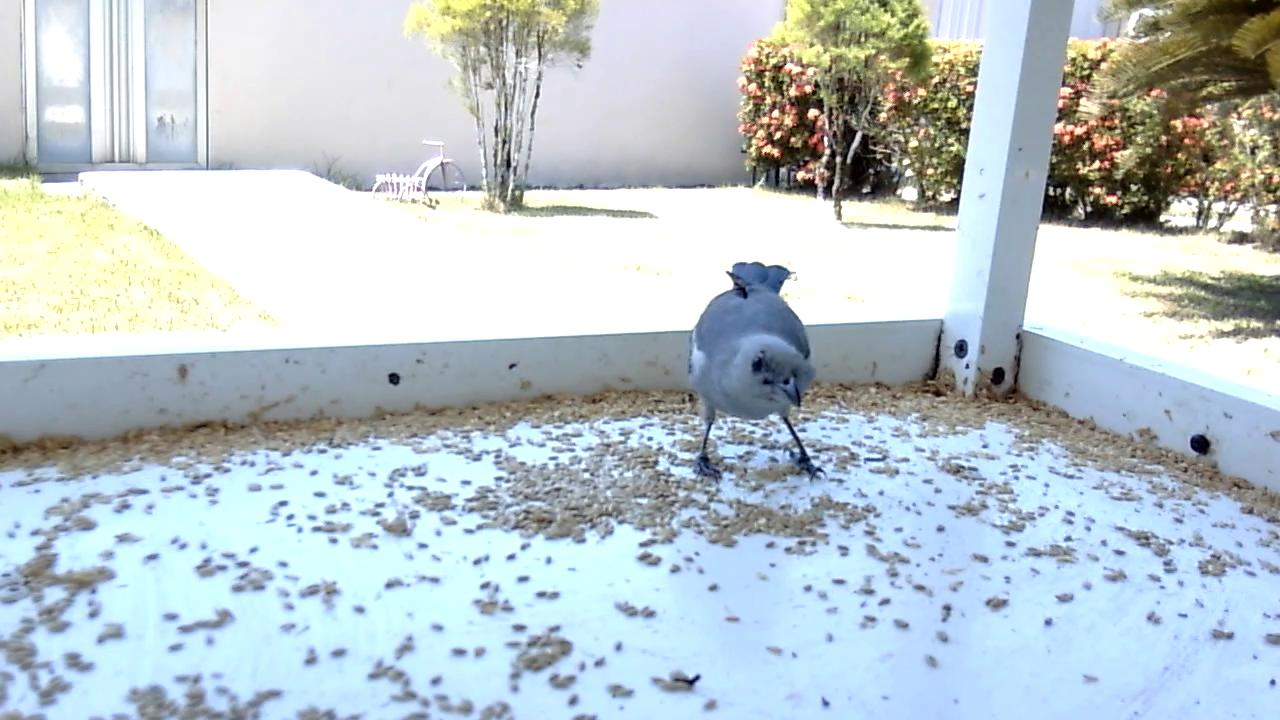sanhaco_da_amazonia: (685, 257, 831, 485)
